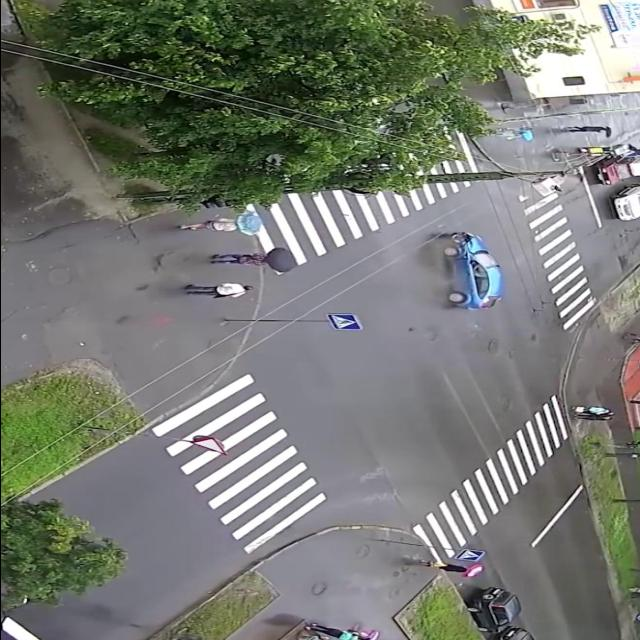accident: (416, 226, 510, 317)
